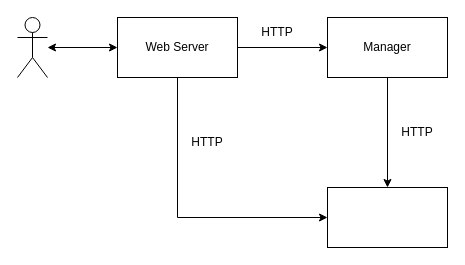
Image size: 465x265. Some labels were removed from this diagram. Each missing label, with the box of its shape:
Actor: (16, 16, 48, 78)
Storage: (326, 186, 448, 248)
